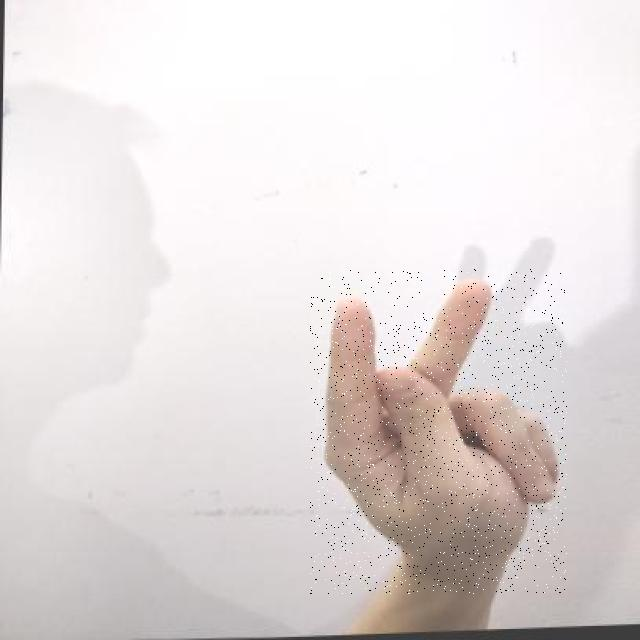K: (310, 269, 567, 594)
